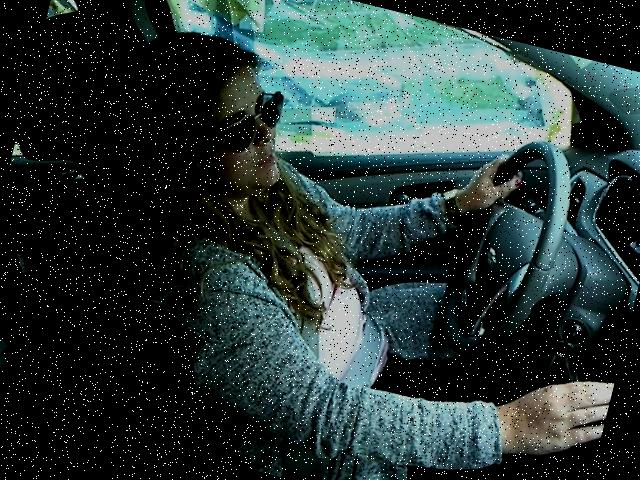c3 - Operating the Radio: (38, 4, 639, 479)
